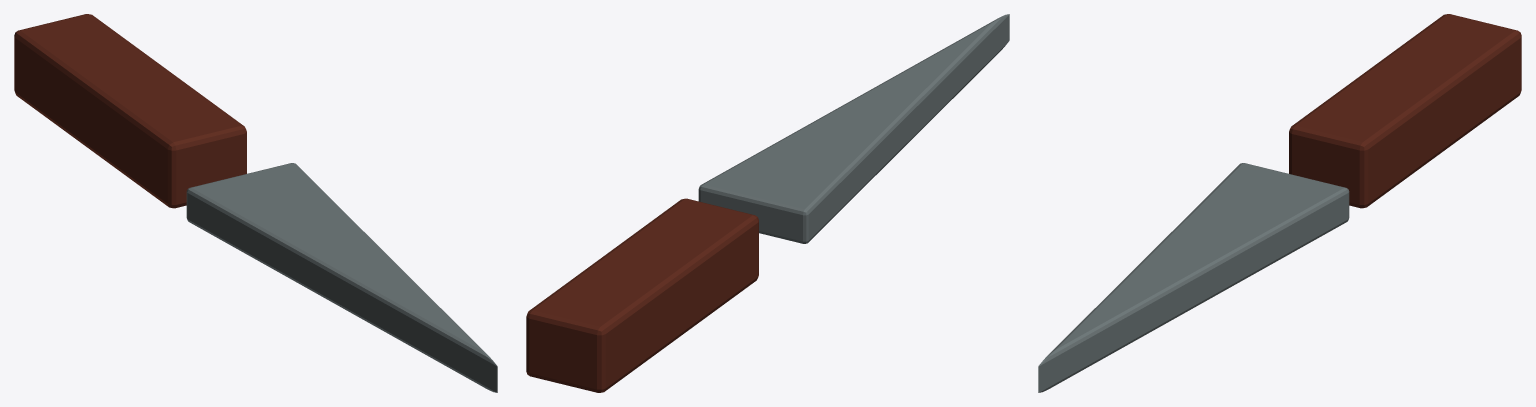
Rendered from short_blade_LOD2.glb.
The picture shows the model from 3 angles, left to right: view 1: azimuth 30°, elevation 25°; view 2: azimuth 150°, elevation 25°; view 3: azimuth 330°, elevation 25°; orthographic projection.
Visible parts, largest first — view 1: LOD2_Grip, LOD2_ShortBlade; view 2: LOD2_Grip, LOD2_ShortBlade; view 3: LOD2_Grip, LOD2_ShortBlade.
Part boxes in pixels (x1,y1,x2,y2): LOD2_Grip: [14, 14, 246, 208]; LOD2_ShortBlade: [186, 163, 497, 392]; LOD2_Grip: [526, 198, 758, 392]; LOD2_ShortBlade: [698, 14, 1009, 243]; LOD2_Grip: [1289, 14, 1521, 208]; LOD2_ShortBlade: [1038, 163, 1349, 392].
Bounding box in the file's own units: 0.1388 × 0.08 × 0.9821.
